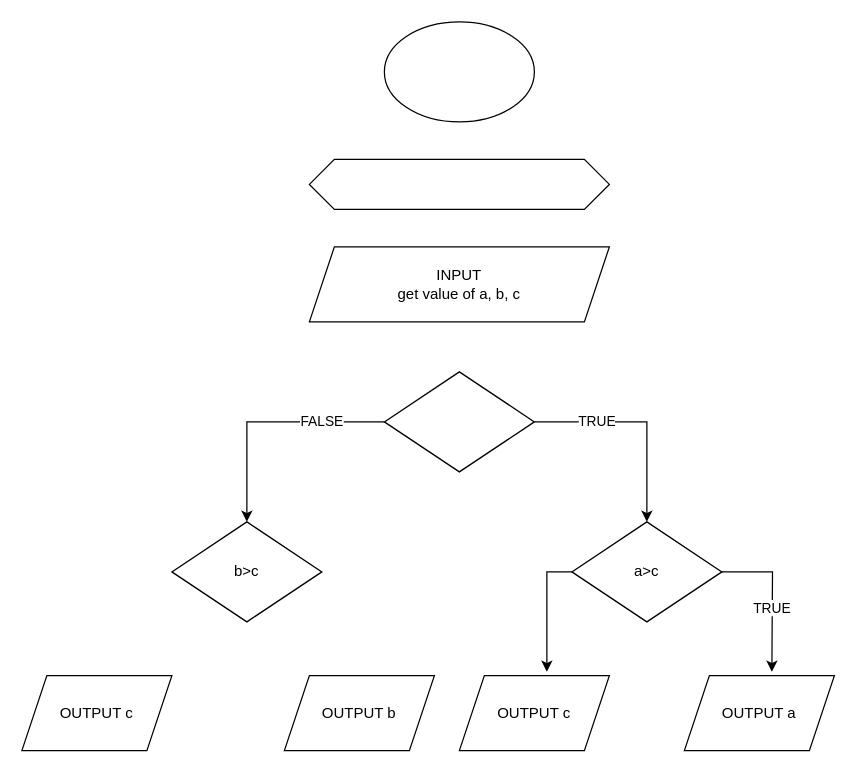
This 856x773 diagram has some shape labels left out. Each missing label, with the box of its shape:
a>b: (383, 371, 534, 472)
declare a, b, c: (308, 158, 609, 209)
Start: (383, 21, 534, 122)
